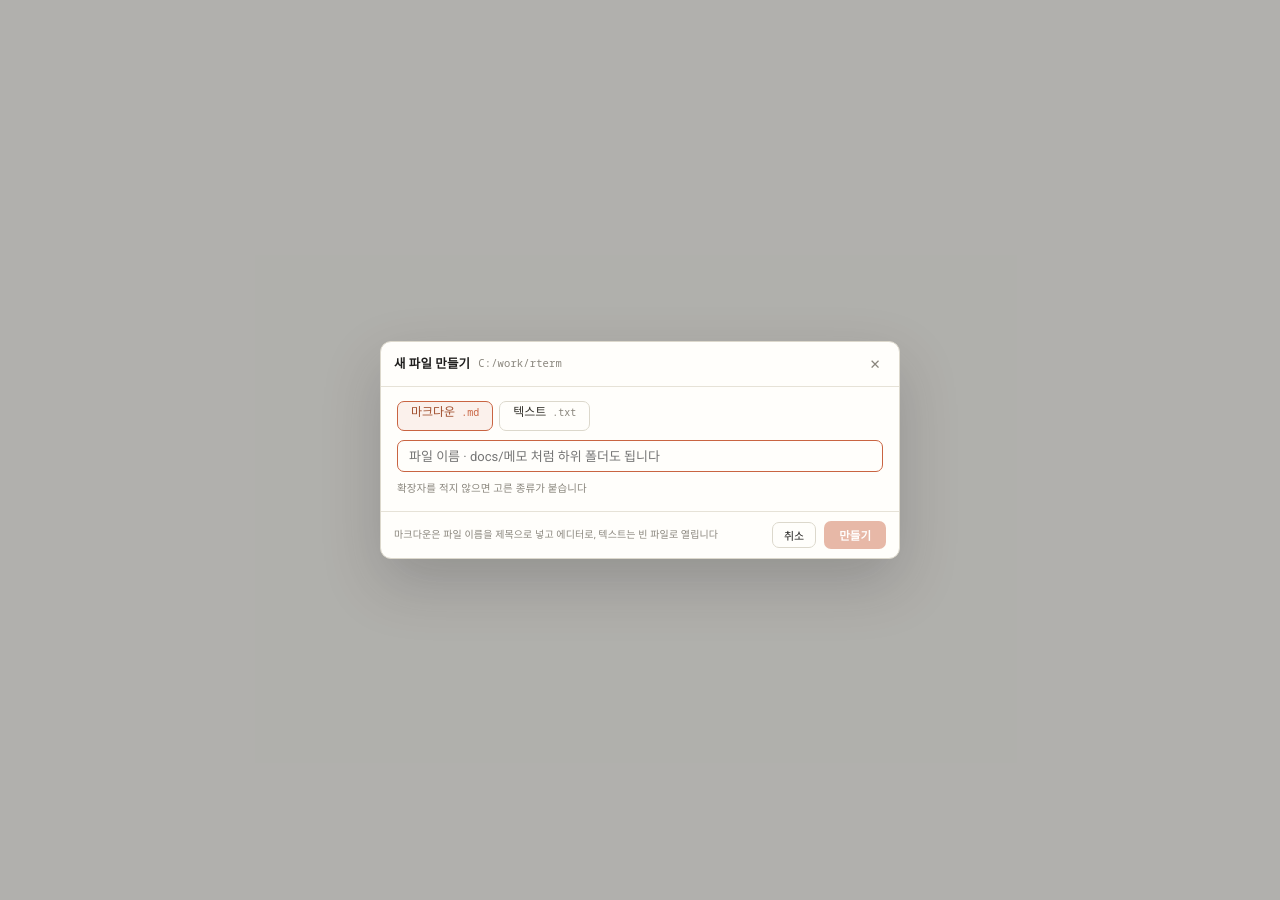
Test: NewFileDialog › 만들 파일의 전체 경로를 미리 보여 준다
The image size is (1280, 900).
Step 1. Type "설계 노트" into the field with class "newfile__name" → (640, 456), box [397,440,883,472]
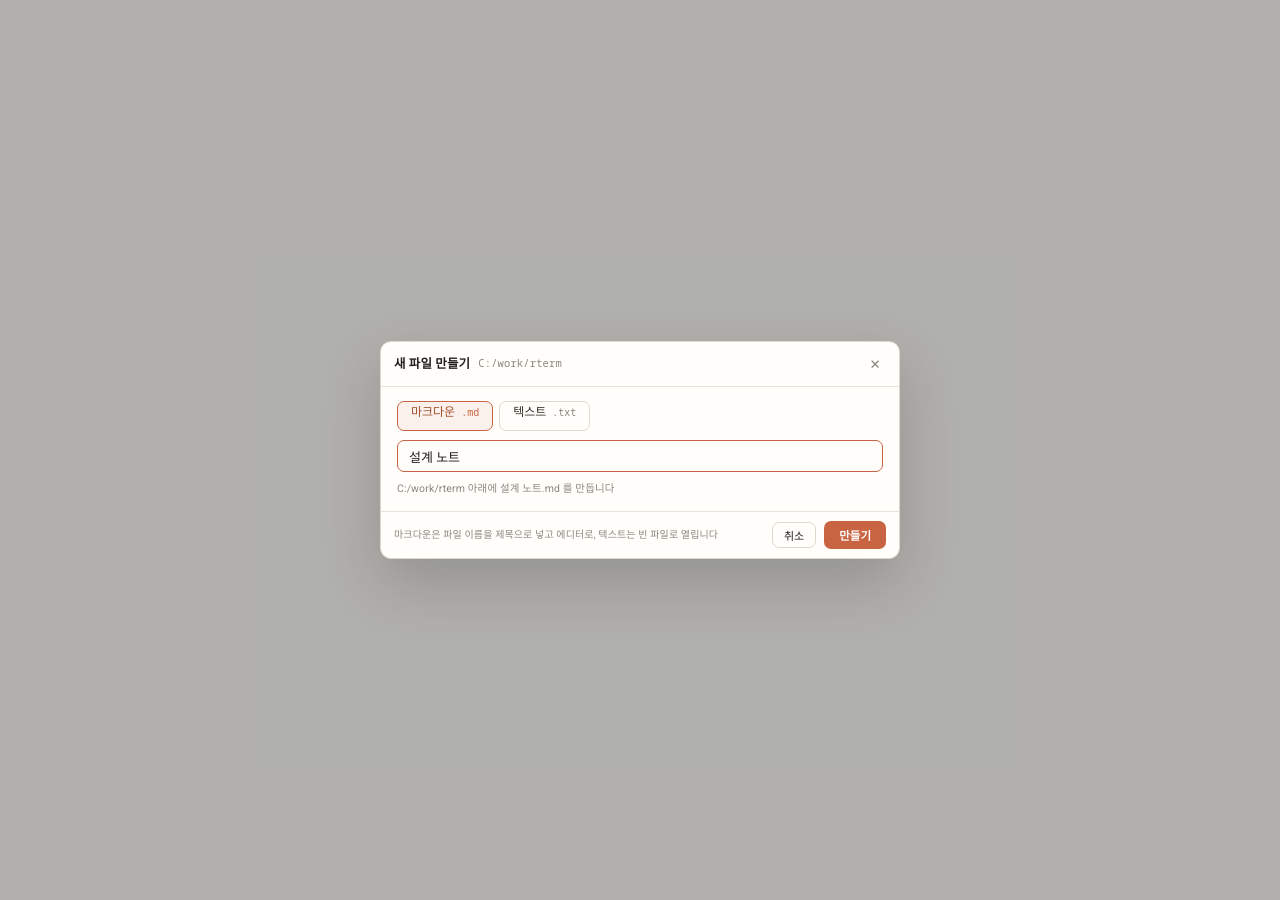
Result: the text with class "newfile__note" shows "C:/work/rterm" at [397,482,614,495]
Result: the text with class "newfile__note" shows "설계 노트.md" at [397,482,614,495]
